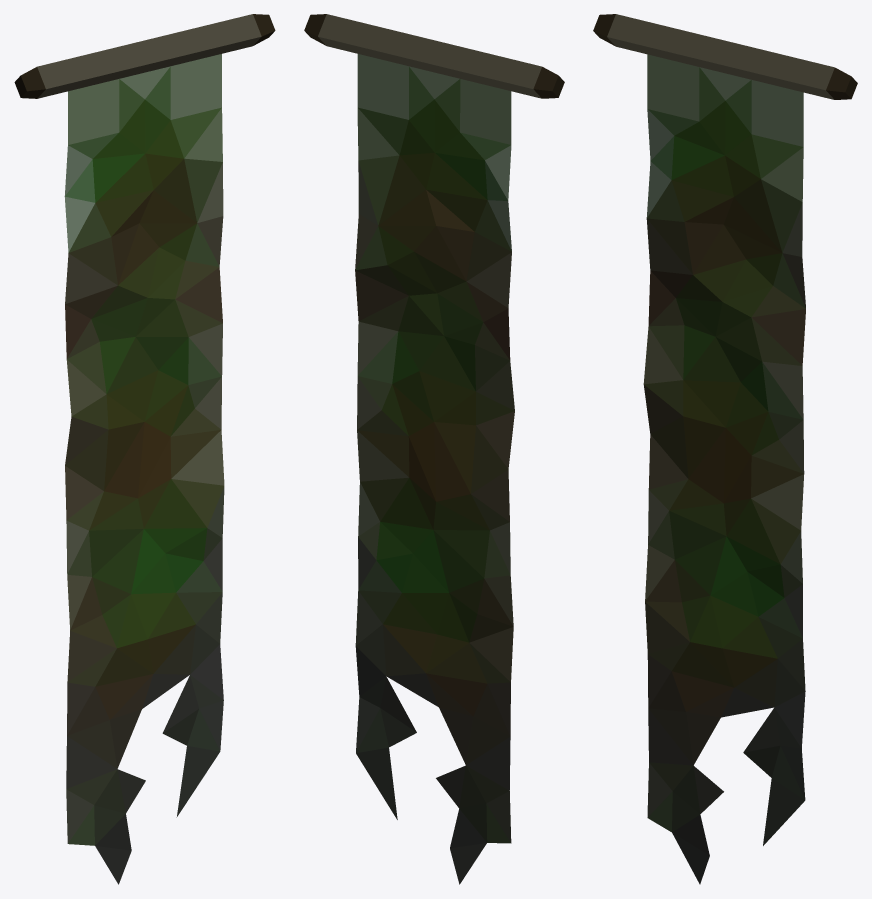
Rendered from Prop_TapestryThinBWorn.fbx.
3 renders of one model, left to right at view 1: azimuth 30°, elevation 25°; view 2: azimuth 150°, elevation 25°; view 3: azimuth 330°, elevation 25°, orthographic.
Visible parts, largest first — view 1: Prop_TapestryThinBWorn; view 2: Prop_TapestryThinBWorn; view 3: Prop_TapestryThinBWorn.
Boxes of the visible parts, bbox=[...] form: Prop_TapestryThinBWorn: bbox=[14, 14, 275, 884]; Prop_TapestryThinBWorn: bbox=[304, 14, 564, 884]; Prop_TapestryThinBWorn: bbox=[593, 14, 857, 884].
Bounding box in the file's own units: 80.63 × 260 × 10.
